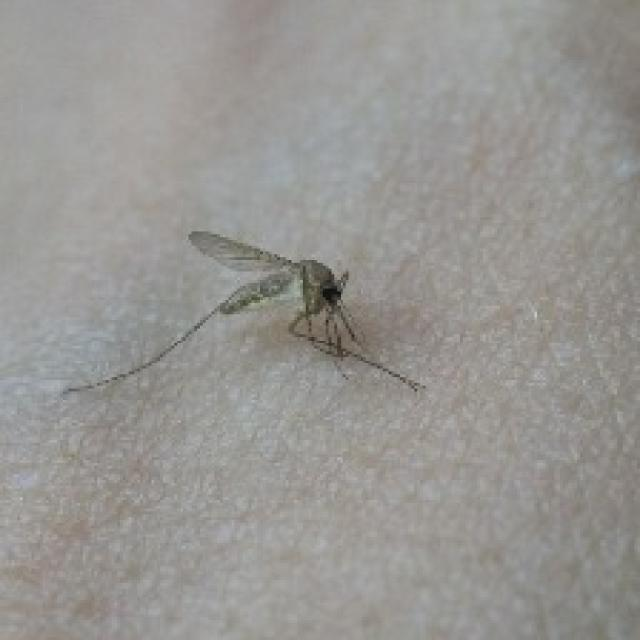culex: (60, 226, 426, 397)
